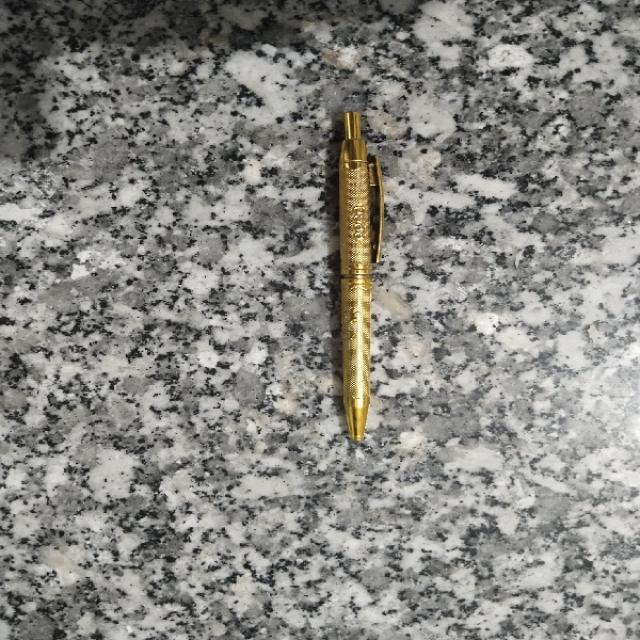signature pen: (340, 112, 383, 440)
